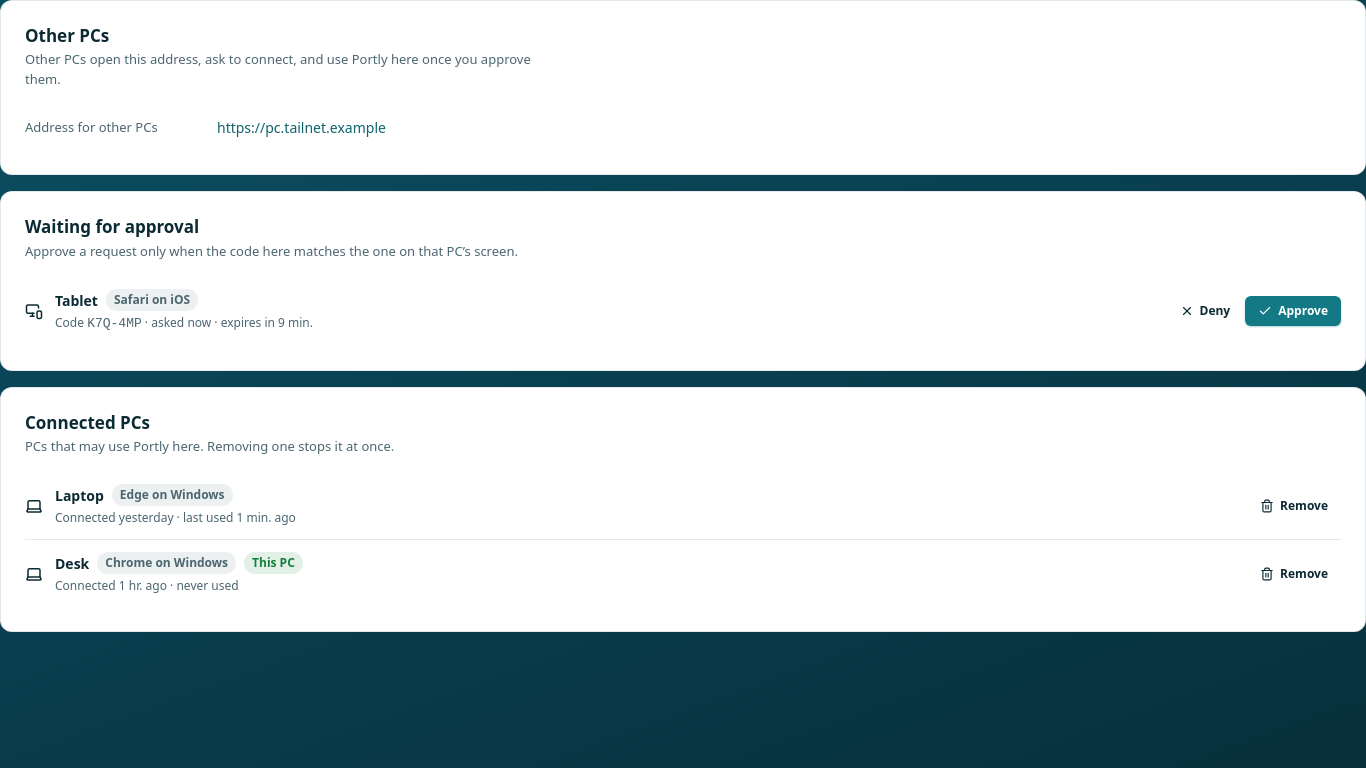
Test: Devices settings › takes a request already decided elsewhere (404) as denied, and a device already gone as removed
This screenshot has width=1366, height=768.
Click the button with aria-label "Deny Tablet". click: (1205, 311)
box: [1166, 296, 1243, 326]
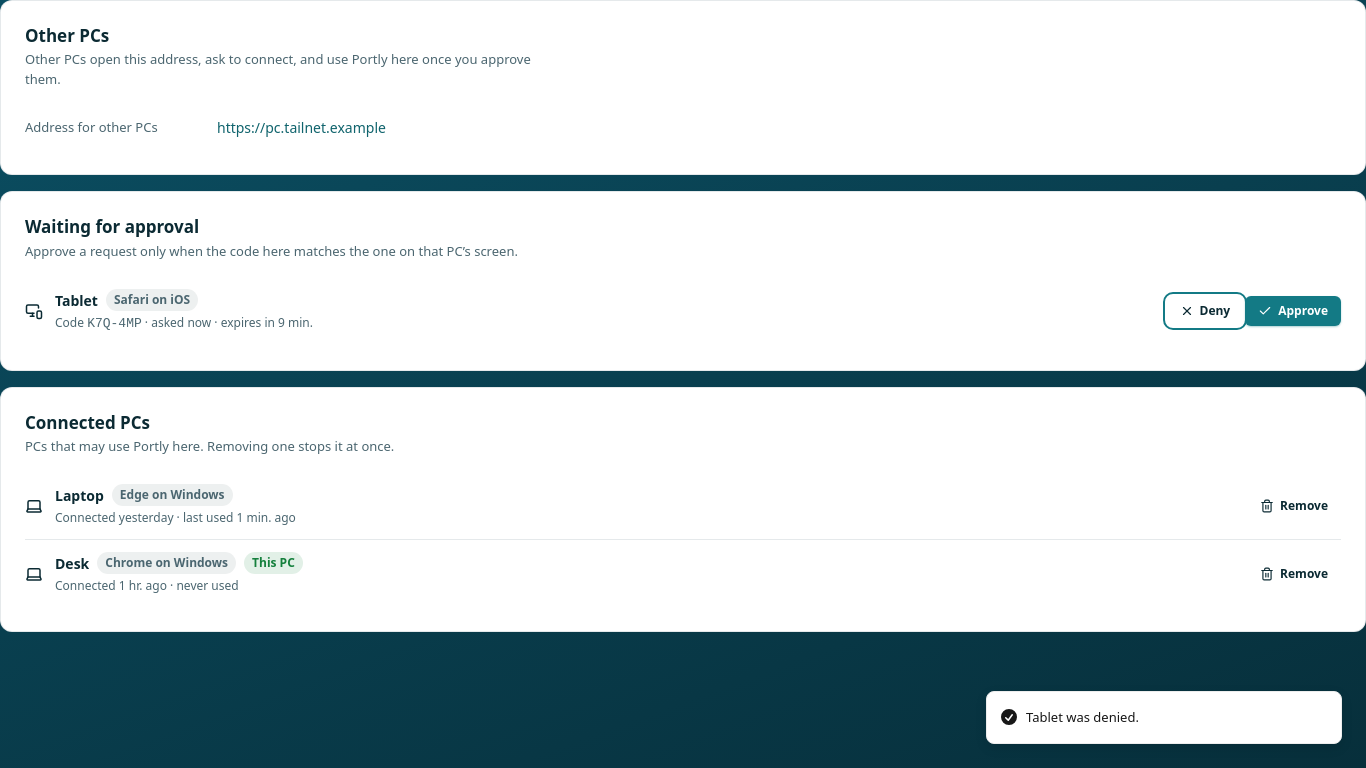
expect the text "Tablet was denied." is shown: met, box [1026, 708, 1139, 727]
Click the button with aria-label "Remove Laptop". click: (1294, 506)
box: [1247, 491, 1341, 521]
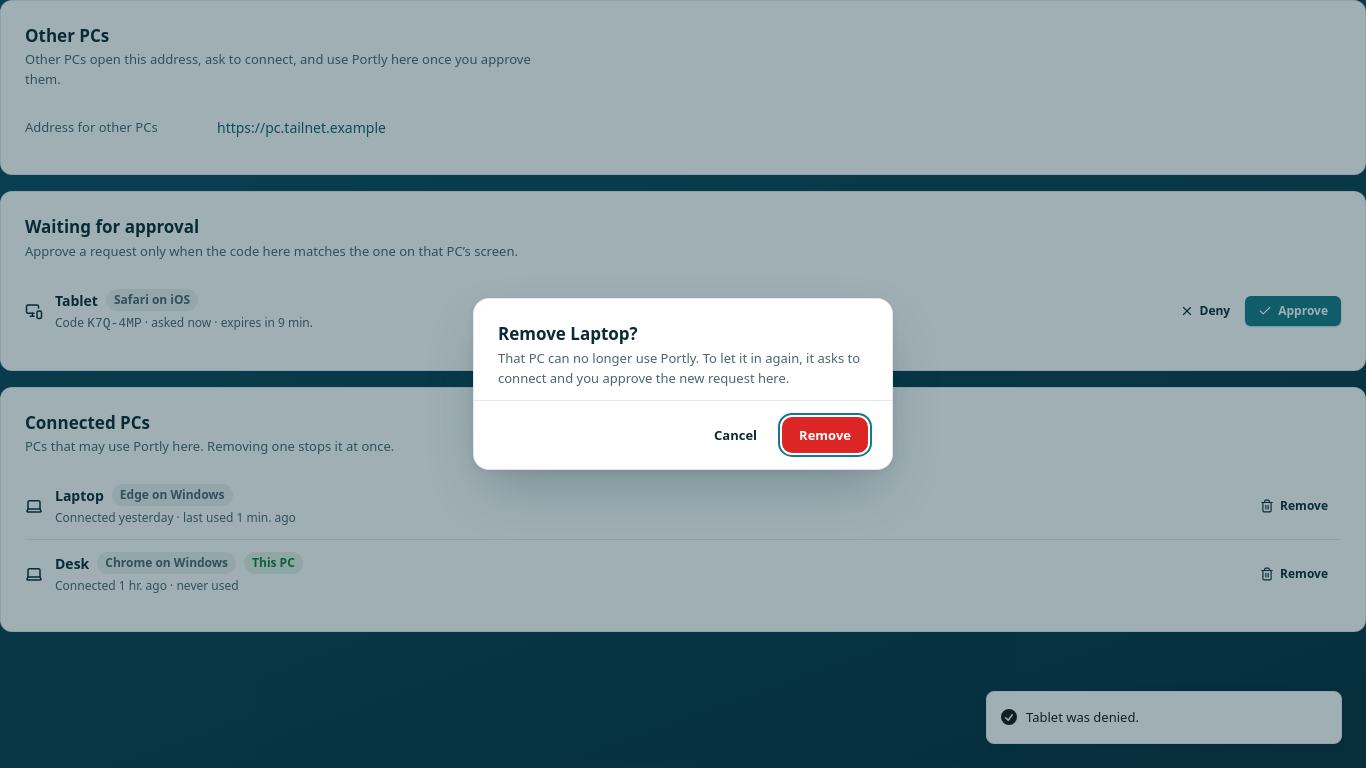
Click the button "Remove". click: (825, 435)
box: [782, 417, 868, 453]
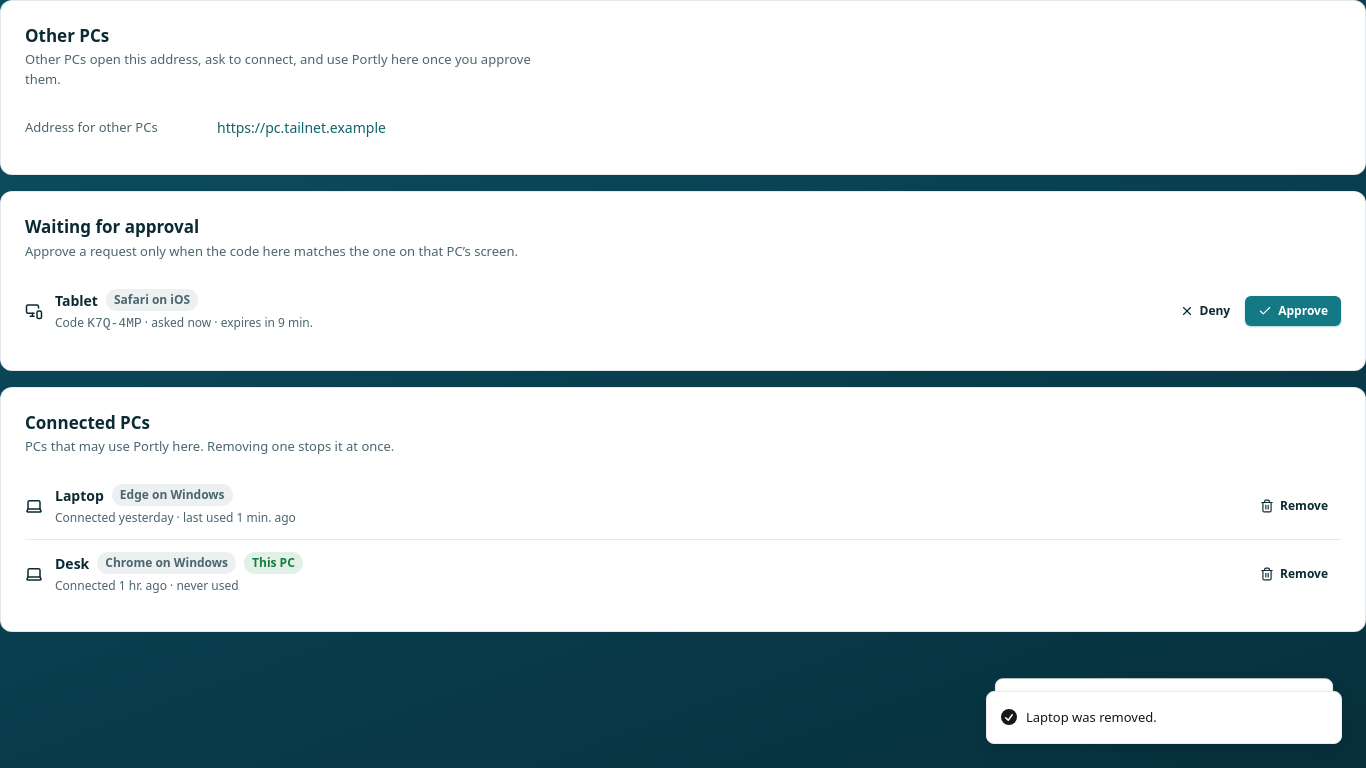
expect the text "Laptop was removed." is shown: met, box [1026, 708, 1157, 727]
